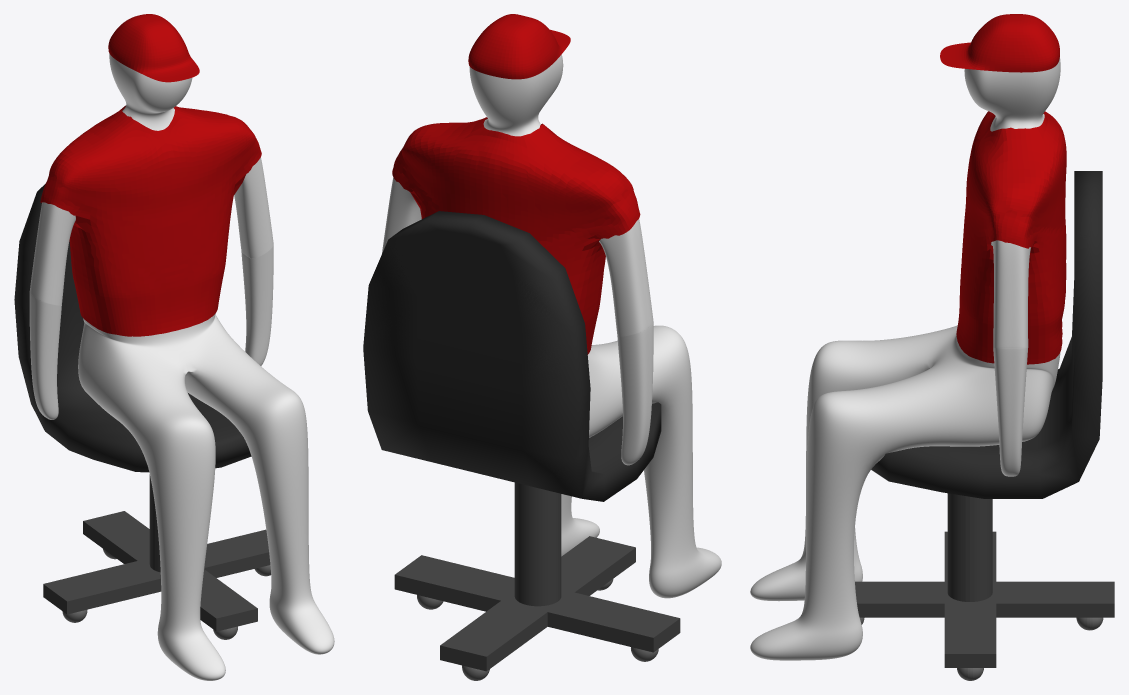
The model's file is Player1onChair.glb.
The picture shows the model from 3 angles, left to right: view 1: azimuth 30°, elevation 25°; view 2: azimuth 150°, elevation 25°; view 3: azimuth 270°, elevation 25°; orthographic projection. The views are drawn at different scales.
Visible parts, largest first — view 1: Charcter, Shirt, Seat, Leg, Hat, Leg.001, Wheels; view 2: Seat, Charcter, Shirt, Leg, Leg.001, Hat, Wheels; view 3: Charcter, Shirt, Seat, Leg, Hat, Leg.001, Wheels.
Part boxes in pixels (x1,y1,x2,y2): Charcter: (29, 53, 334, 680); Shirt: (40, 105, 261, 336); Seat: (14, 184, 251, 472); Leg: (43, 511, 270, 631); Hat: (108, 14, 199, 82); Leg.001: (149, 474, 160, 572); Wheels: (62, 549, 270, 639); Seat: (363, 211, 661, 501); Charcter: (382, 54, 721, 598); Shirt: (392, 117, 640, 354); Leg: (394, 536, 680, 671); Leg.001: (514, 482, 561, 606); Hat: (468, 14, 570, 79); Wheels: (417, 579, 658, 680); Charcter: (750, 57, 1060, 660); Shirt: (956, 111, 1066, 364); Seat: (871, 171, 1102, 498); Leg: (855, 531, 1114, 667); Hat: (940, 14, 1059, 72); Leg.001: (947, 493, 992, 601); Wheels: (860, 617, 1103, 680).
Size of the model in its own units: 2.09 by 4.74 by 2.56.
